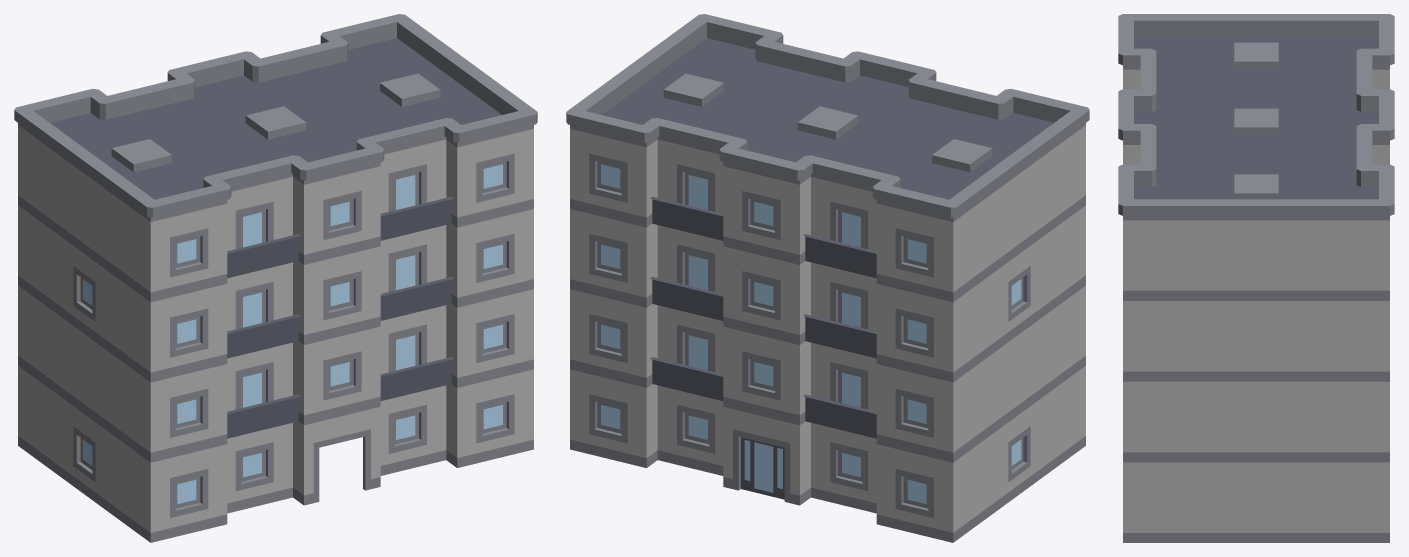
The model's file is buildingNoDoor.glb.
3 views of the same model, side by side, from view 1: azimuth 30°, elevation 25°; view 2: azimuth 150°, elevation 25°; view 3: azimuth 270°, elevation 25° (orthographic).
Parts seen in each view (by area): view 1: large_buildingA; view 2: large_buildingA; view 3: large_buildingA.
Part boxes in pixels (x1,y1,x2,y2): large_buildingA: [14, 14, 537, 542]; large_buildingA: [566, 14, 1089, 542]; large_buildingA: [1118, 14, 1394, 542].
Bounding box in the file's own units: 2.04 × 1.68 × 1.24.
